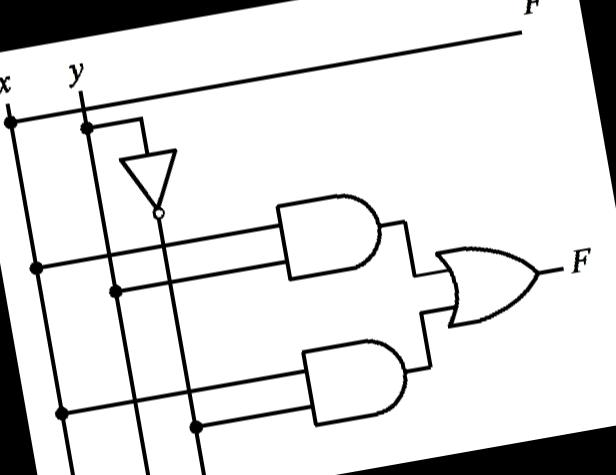and: (242, 164, 402, 300), (275, 313, 429, 444)
not: (103, 136, 201, 230)
or: (422, 216, 562, 347)
